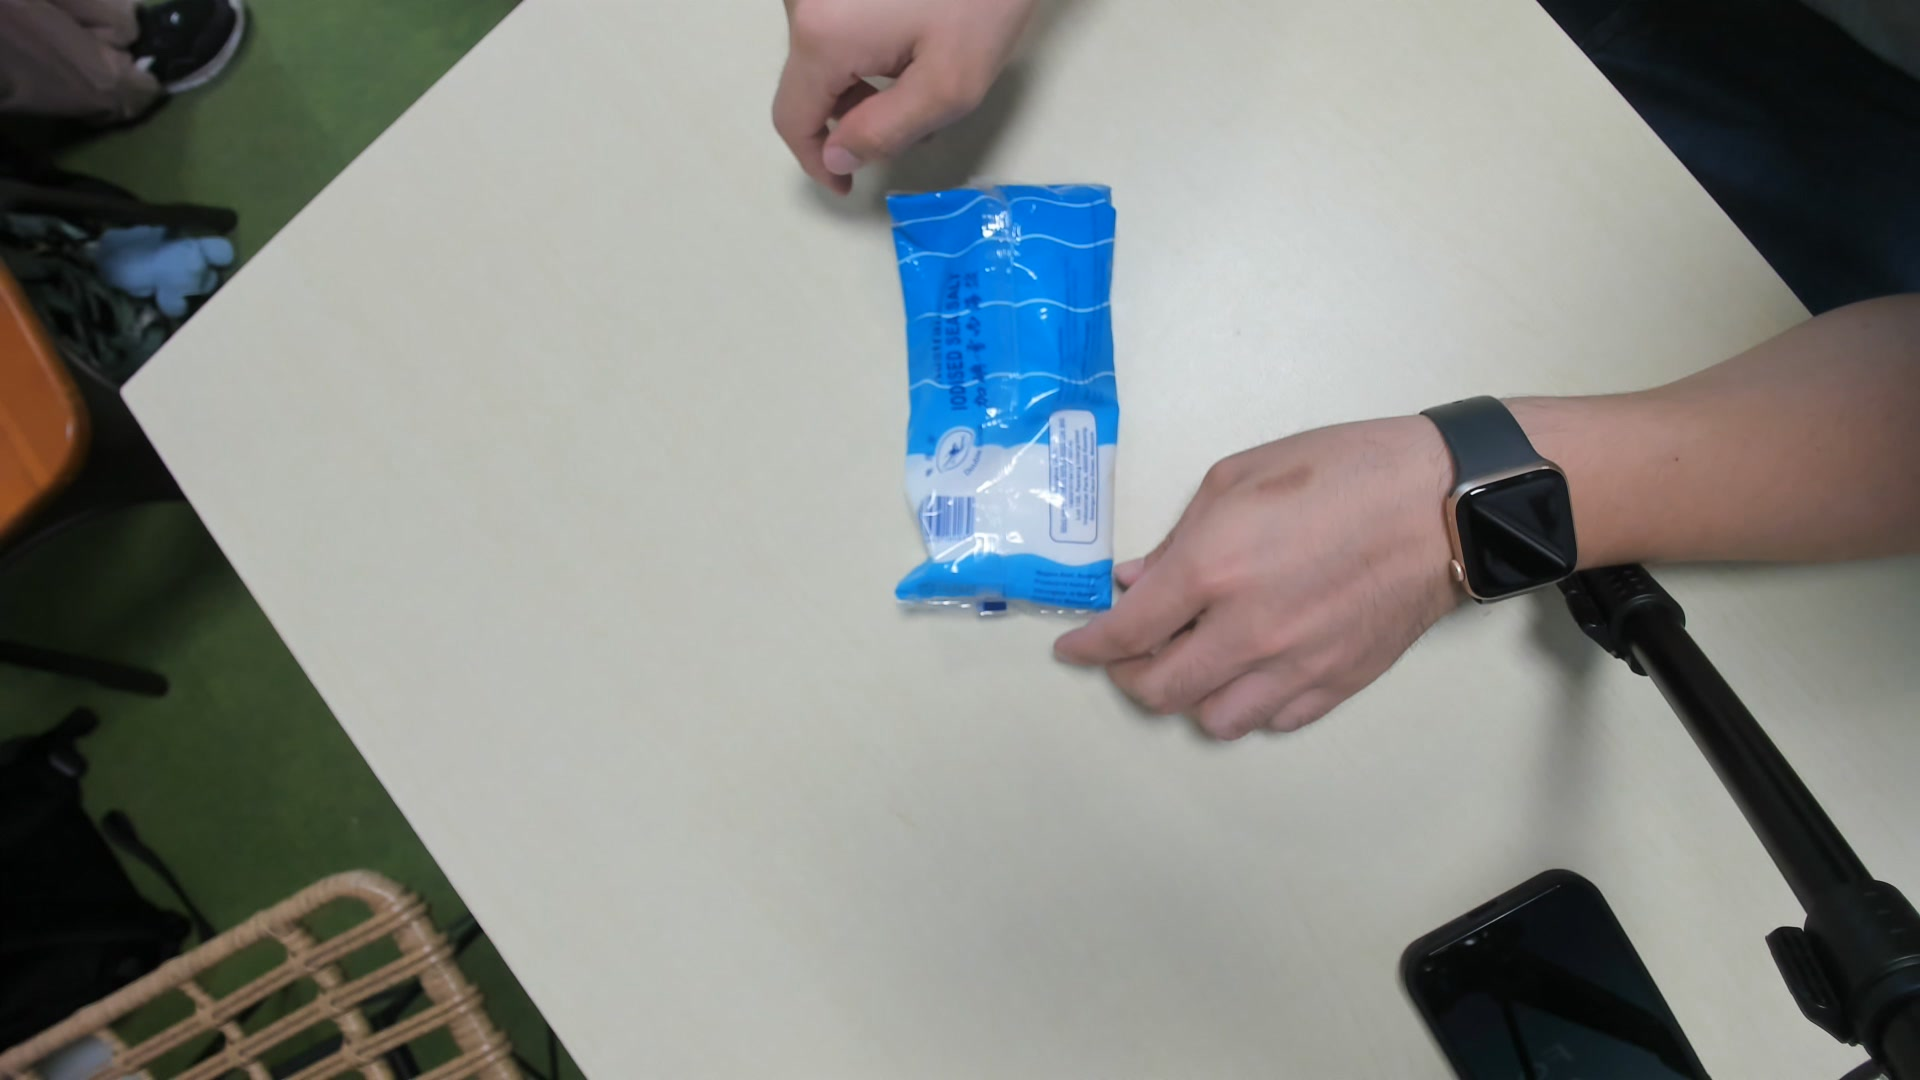Salt_300-399g_NonHalal_NonHealthy: (886, 181, 1117, 616)
